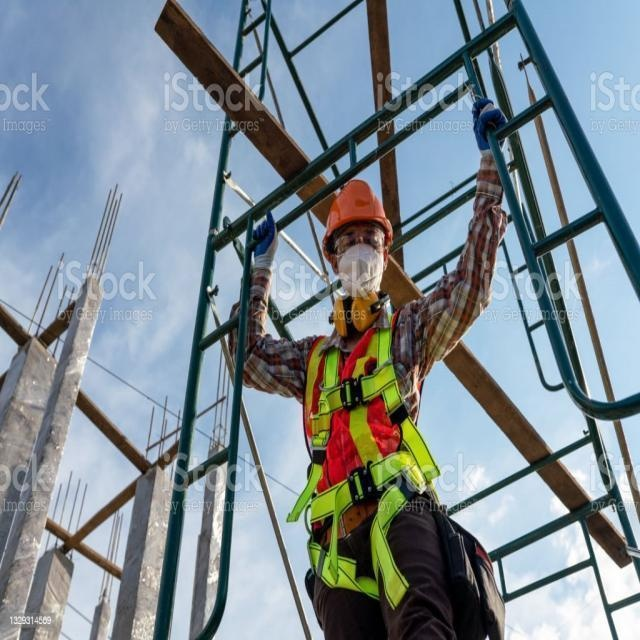Arnes_seguridad: (308, 304, 413, 613)
